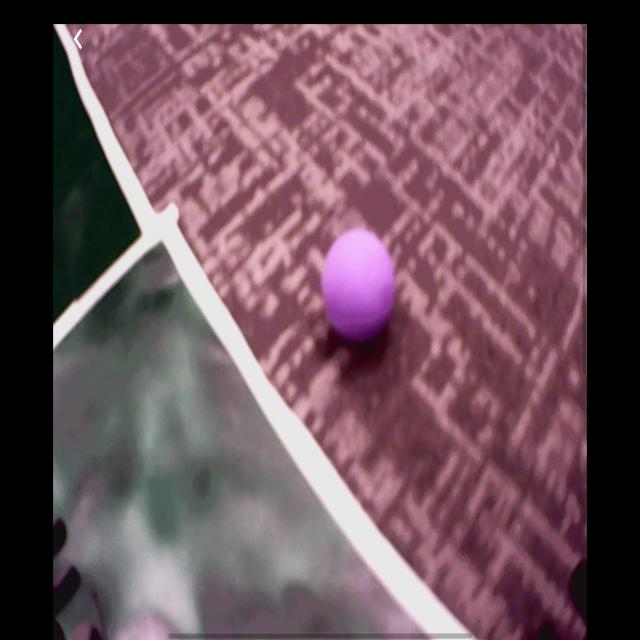ball: (324, 228, 396, 342)
